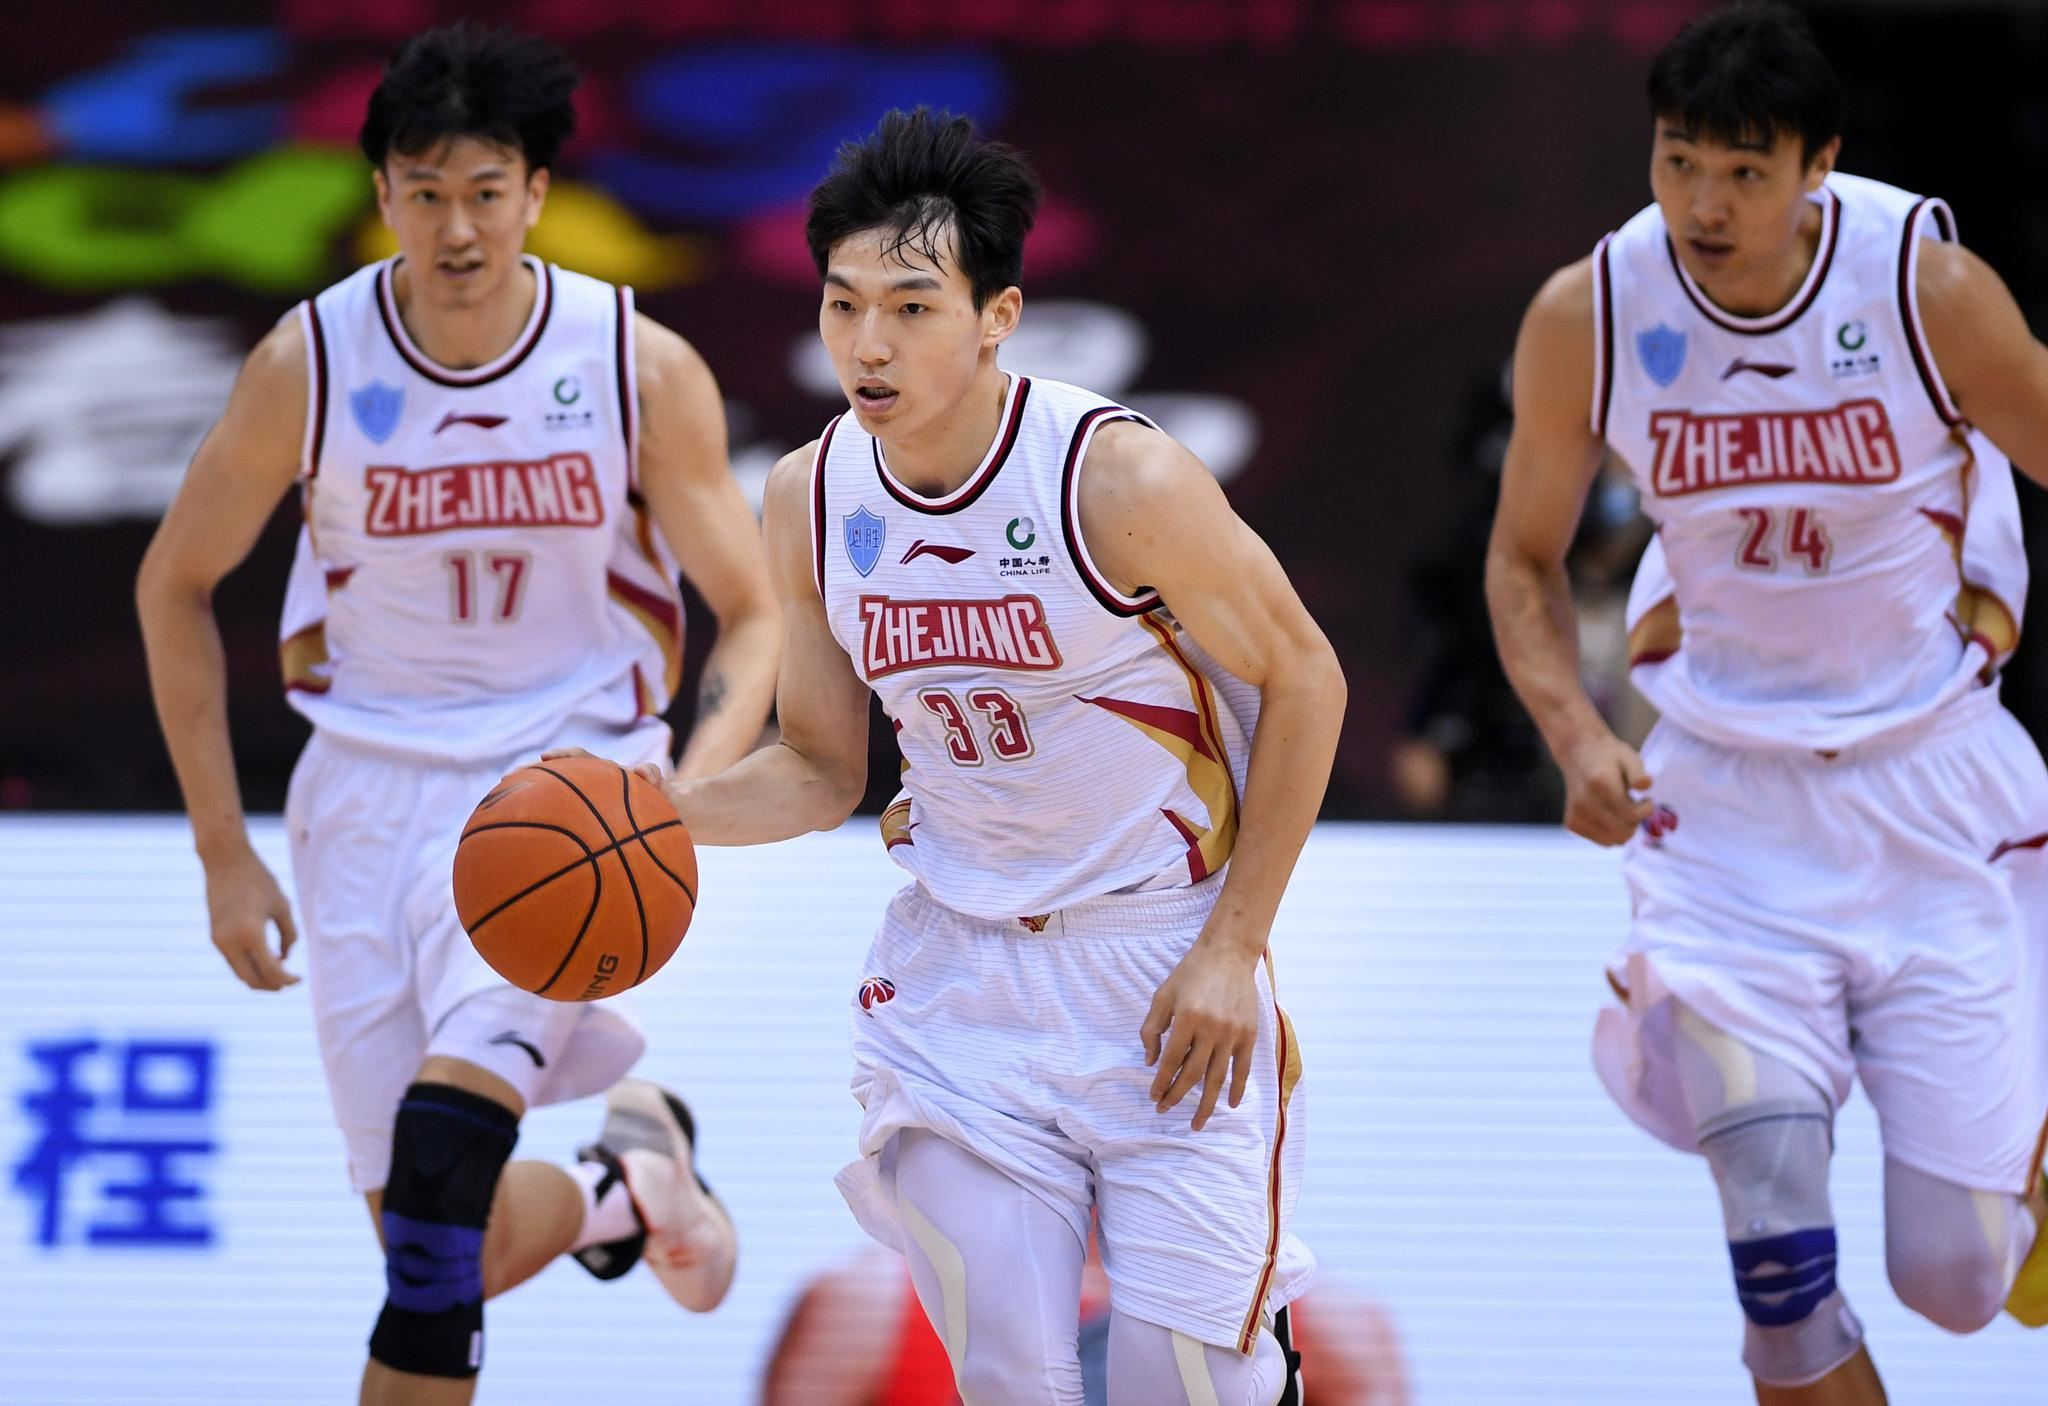ball: (453, 754, 699, 1003)
